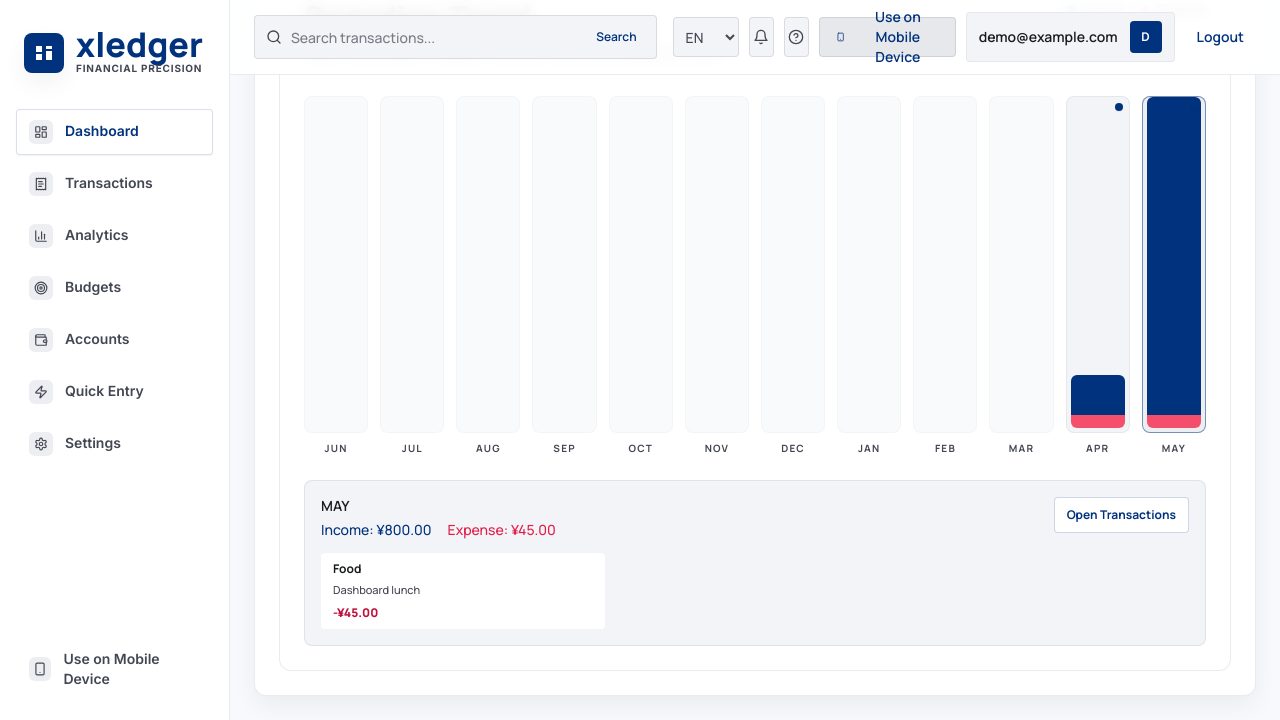
Test: dashboard and analytics pages › shows selected dashboard month transactions and opens the same range in transactions
(page scrolled)
Check: the text "Dashboard lunch" is shown, box [333, 582, 420, 598]
Click the button with aria-label "open selected month transactions" at (1121, 514), box [1054, 496, 1189, 532]
(page scrolled)
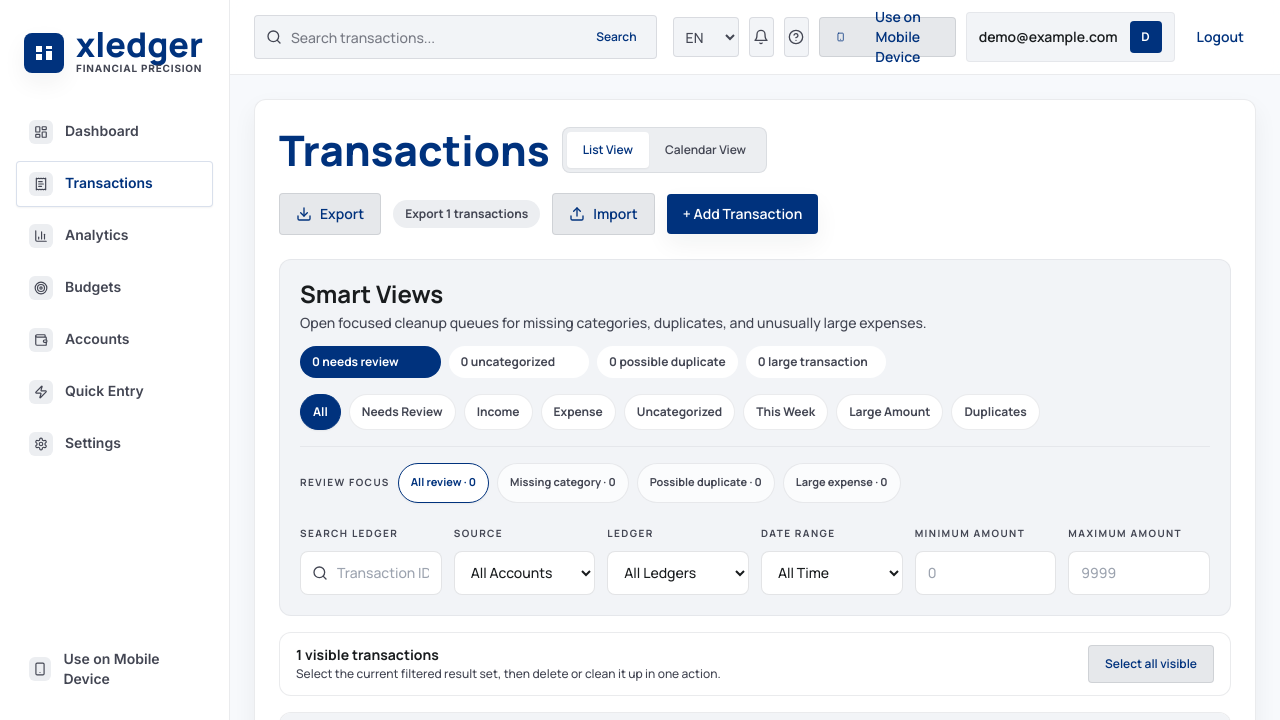
Check: the heading "Transactions" is shown, box [279, 124, 550, 176]
